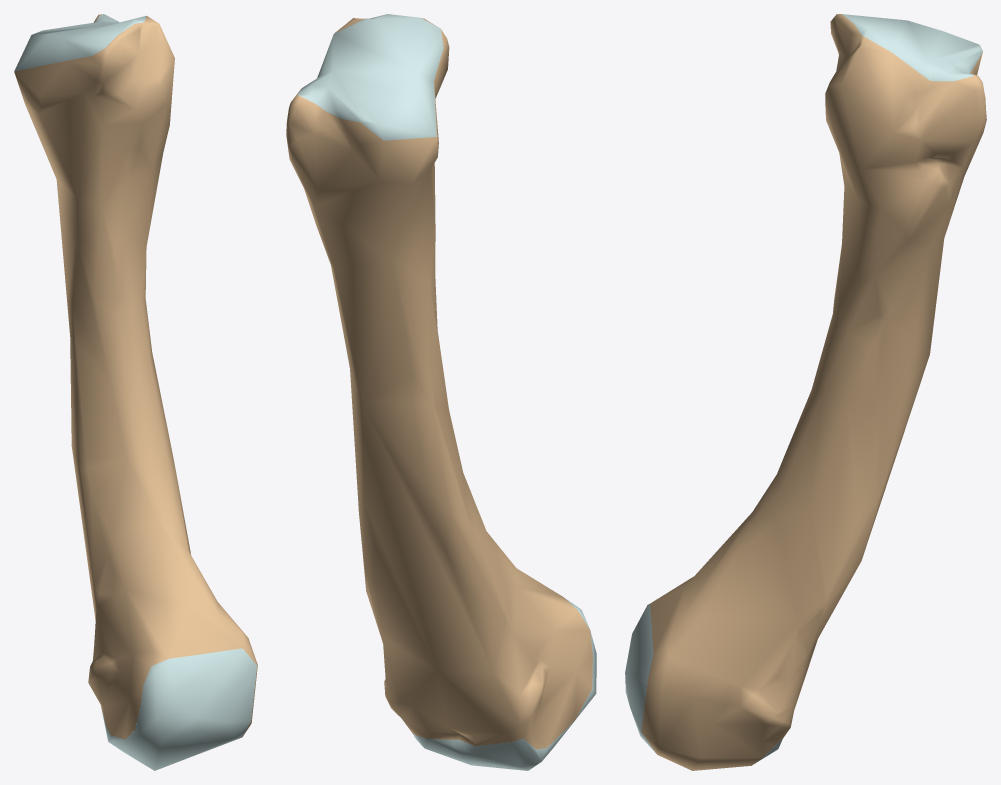
The model's file is 4th_metacarpal_bone.l_Generated_Mesh_From_X3D.739.glb.
The picture shows the model from 3 angles, left to right: view 1: azimuth 30°, elevation 25°; view 2: azimuth 150°, elevation 25°; view 3: azimuth 270°, elevation 25°; orthographic projection. The views are drawn at different scales.
Visible parts, largest first — view 1: 4th_metacarpal_bone.l_Generated_Mesh_From_X3D.739; view 2: 4th_metacarpal_bone.l_Generated_Mesh_From_X3D.739; view 3: 4th_metacarpal_bone.l_Generated_Mesh_From_X3D.739.
Boxes of the visible parts, x1,y1,x2,y2 form: 4th_metacarpal_bone.l_Generated_Mesh_From_X3D.739: (14,14,257,770); 4th_metacarpal_bone.l_Generated_Mesh_From_X3D.739: (286,14,596,770); 4th_metacarpal_bone.l_Generated_Mesh_From_X3D.739: (625,14,986,770).
Bounding box in the file's own units: 0.0131 × 0.0621 × 0.0271.
